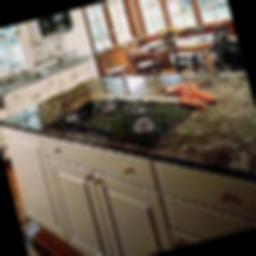Electrodomestico: (43, 79, 201, 176)
